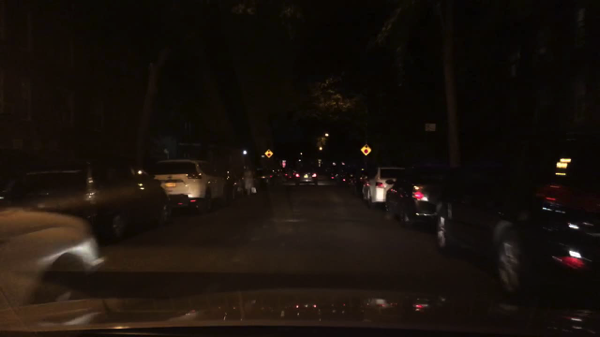car: (433, 156, 599, 304), (7, 160, 171, 245), (0, 206, 106, 309), (385, 162, 454, 232), (147, 157, 231, 213), (362, 167, 406, 212), (226, 168, 247, 199), (293, 164, 319, 187), (356, 168, 376, 195), (255, 170, 275, 185), (346, 168, 357, 185), (335, 168, 346, 182), (273, 169, 282, 181), (280, 171, 291, 180), (330, 169, 338, 181), (290, 171, 299, 179)
traffic sign: (360, 143, 373, 156), (423, 123, 437, 133), (263, 149, 273, 159), (280, 159, 287, 167)
